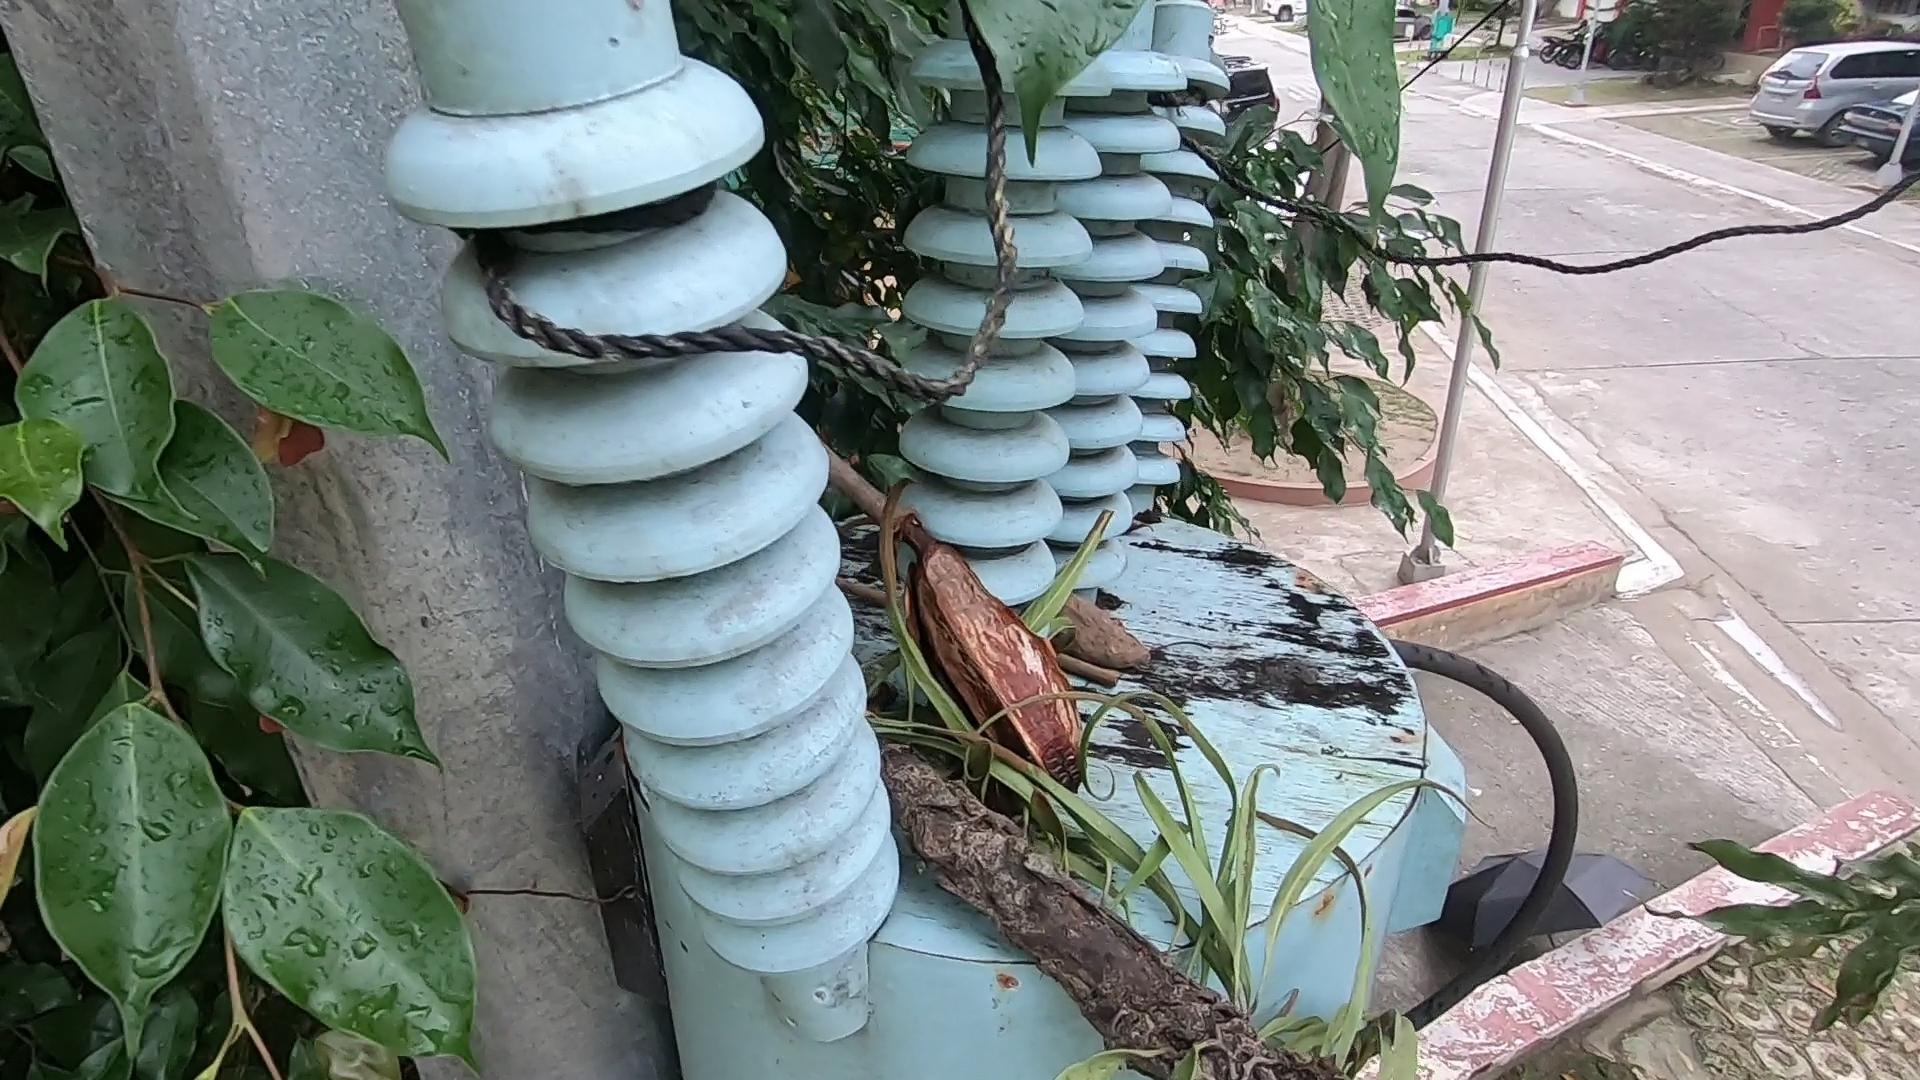branch with leaves: (860, 663, 1222, 1080)
mahogany fruit: (885, 520, 1095, 794), (1054, 567, 1191, 676)
tree branch: (1029, 605, 1174, 773), (795, 401, 913, 542)
